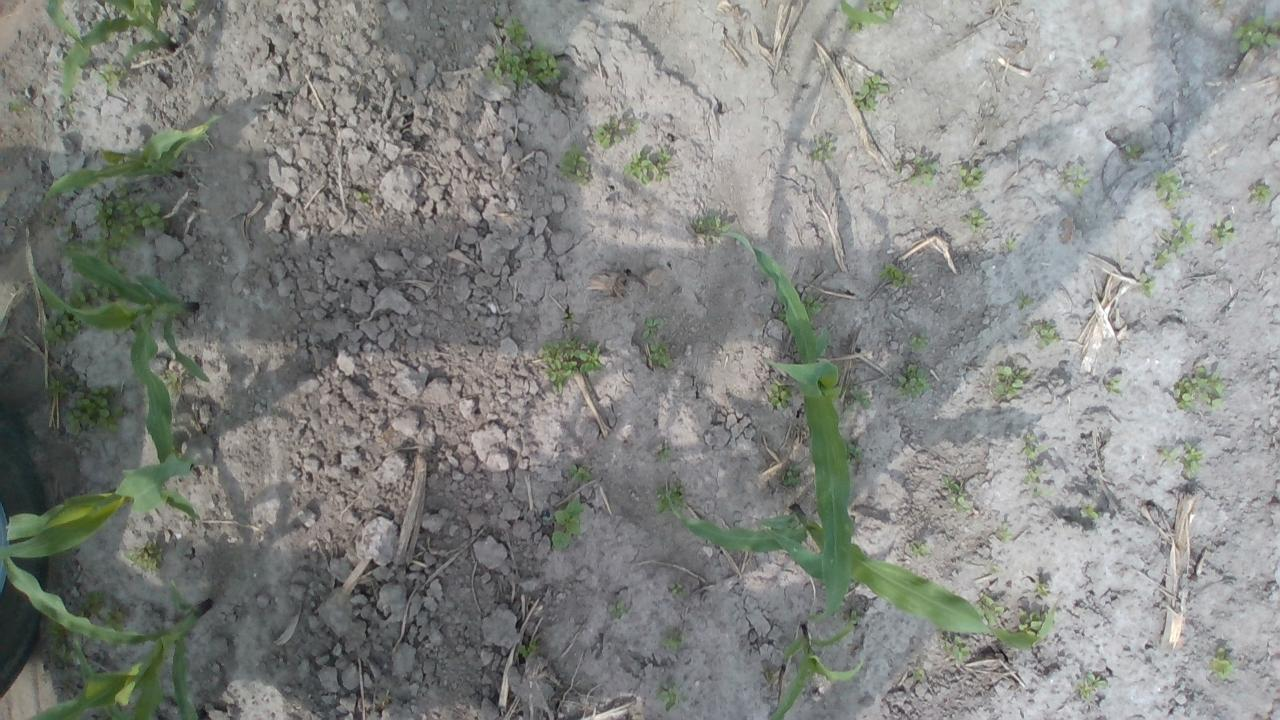Maize: (662, 478, 992, 640), (721, 224, 852, 622), (25, 247, 210, 471), (0, 554, 214, 718), (0, 456, 202, 566), (44, 114, 227, 212), (31, 1, 182, 101), (762, 623, 866, 719)
Weeds: (38, 588, 118, 662), (488, 16, 563, 86), (62, 377, 127, 440), (530, 336, 603, 388), (99, 198, 164, 253), (1166, 368, 1227, 417), (1138, 216, 1192, 270), (1008, 582, 1053, 638), (636, 311, 674, 375), (1230, 16, 1280, 62), (1017, 439, 1052, 504), (1150, 445, 1210, 480), (544, 498, 584, 548), (893, 151, 939, 191), (836, 4, 904, 29), (556, 144, 596, 185), (888, 362, 928, 402), (40, 308, 80, 348), (92, 55, 130, 96), (624, 155, 670, 187), (939, 632, 979, 668), (849, 72, 886, 110), (997, 364, 1030, 406), (66, 274, 108, 304), (591, 119, 631, 150), (1206, 652, 1240, 688), (556, 460, 596, 488), (976, 580, 1000, 626), (838, 386, 873, 417), (791, 292, 828, 321), (650, 483, 682, 516), (939, 478, 975, 506), (690, 215, 733, 238), (1078, 668, 1104, 704), (1060, 166, 1092, 195), (1154, 173, 1182, 206), (766, 382, 790, 420), (515, 634, 544, 664), (879, 262, 911, 288), (1030, 320, 1054, 350), (953, 162, 980, 187), (809, 140, 837, 164), (609, 596, 631, 624), (1118, 140, 1142, 162), (961, 212, 985, 234), (908, 332, 932, 354), (656, 682, 680, 704), (781, 463, 802, 487), (1252, 179, 1272, 203), (1213, 222, 1233, 246), (1135, 272, 1157, 292), (1103, 372, 1122, 395), (354, 188, 372, 211), (4, 96, 24, 116), (910, 541, 931, 558), (668, 584, 690, 598), (1081, 504, 1098, 522), (656, 442, 670, 461), (1017, 290, 1030, 310), (1092, 55, 1106, 72), (1004, 233, 1014, 253)
